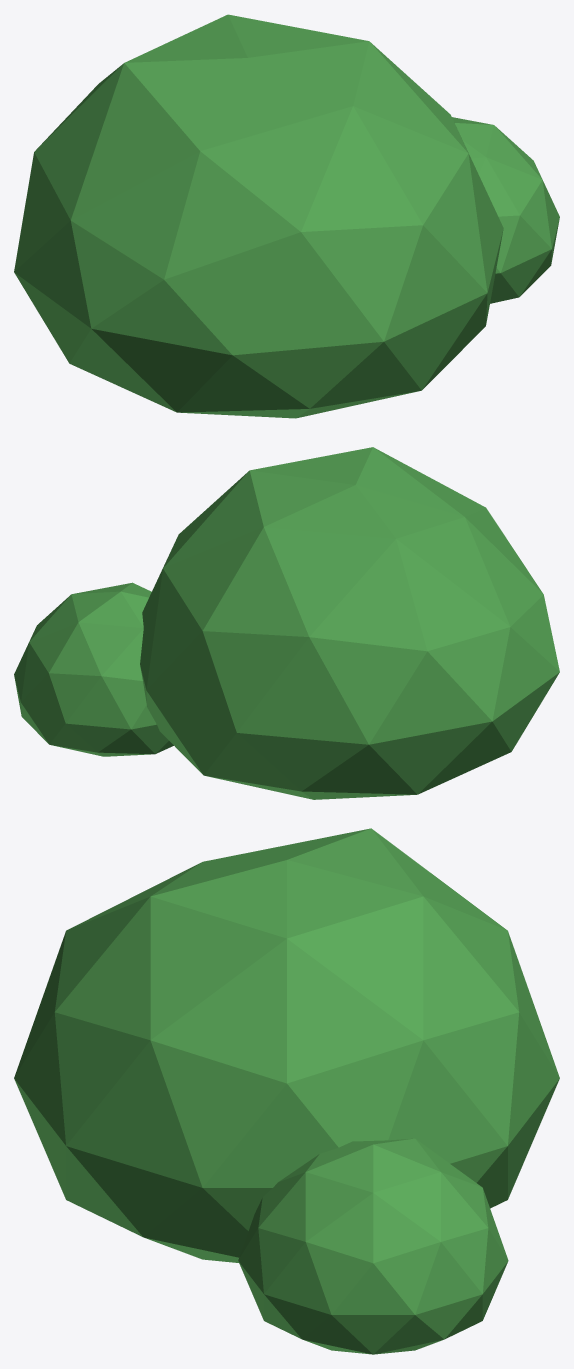
Rendered from Bush_02.fbx.
The picture shows the model from 3 angles, top to bottom: view 1: azimuth 30°, elevation 25°; view 2: azimuth 150°, elevation 25°; view 3: azimuth 270°, elevation 25°; orthographic projection. The views are drawn at different scales.
Parts seen in each view (by area): view 1: Bush_02; view 2: Bush_02; view 3: Bush_02.
Boxes of the visible parts, box(x1,y1,x2,y2) form: Bush_02: box(14, 14, 559, 418); Bush_02: box(14, 447, 559, 799); Bush_02: box(14, 828, 559, 1354).
Size of the model in its own units: 130 by 75.22 by 107.
